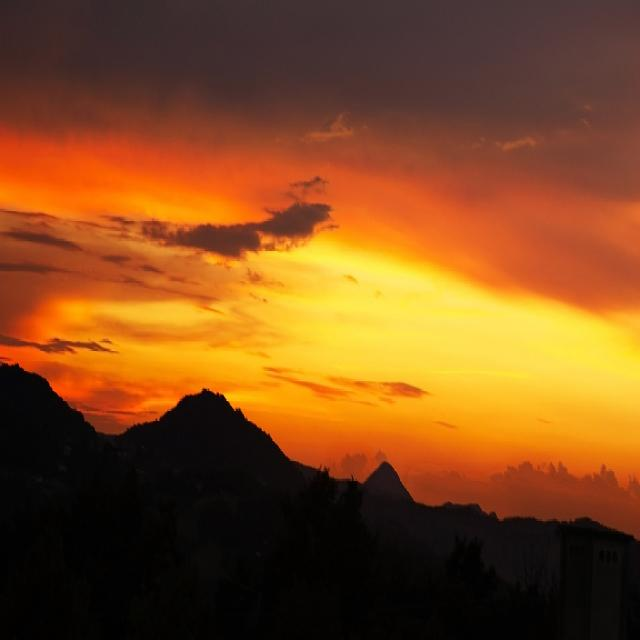no_fire: (8, 100, 640, 531)
